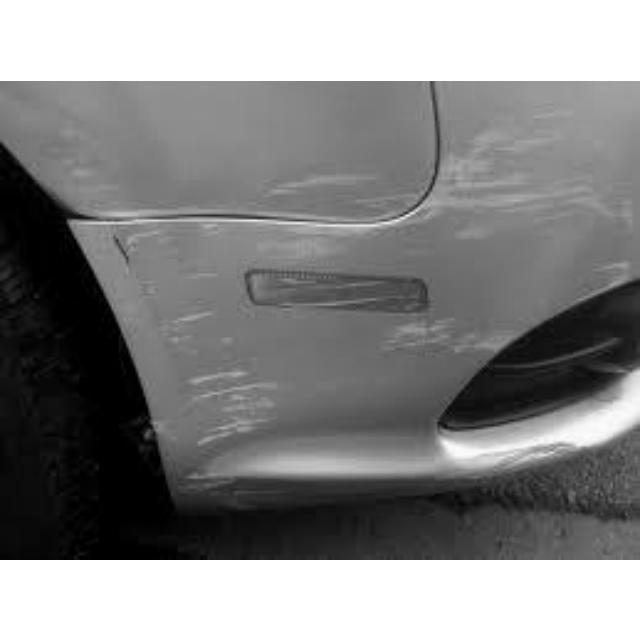front-bumper-dent: (87, 140, 598, 451)
